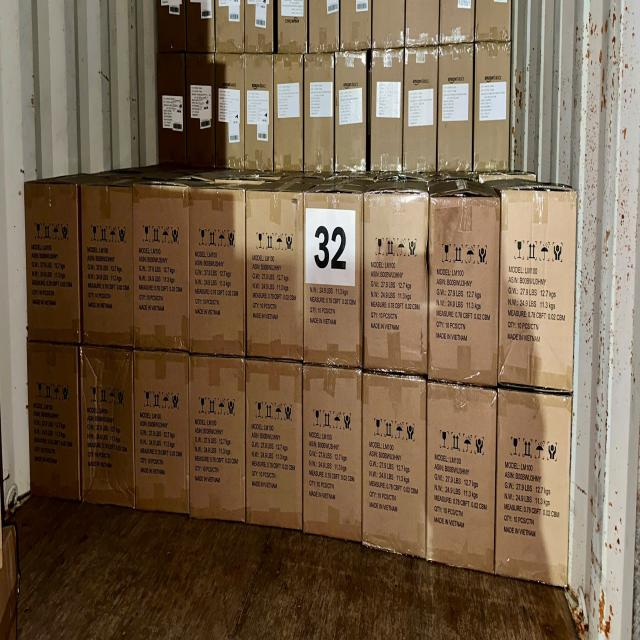Carton: (501, 192, 580, 390), (500, 385, 578, 583), (428, 193, 499, 387), (425, 377, 495, 572), (359, 375, 426, 562), (368, 190, 433, 377), (303, 365, 365, 541), (306, 192, 366, 368), (246, 358, 307, 530), (247, 188, 307, 361), (185, 186, 244, 356), (132, 187, 192, 354), (186, 356, 247, 520), (20, 183, 80, 345), (132, 349, 190, 514), (82, 185, 140, 348), (82, 347, 140, 508), (24, 337, 80, 499)
